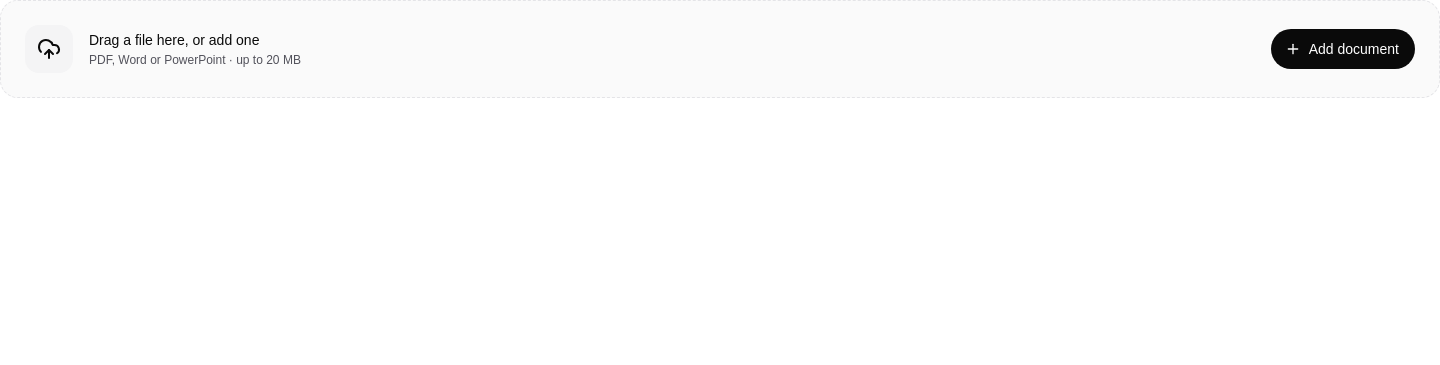
Test: UploadPanel › opens a source menu from the plus button and closes it on Escape
Click the button "Add document" at (1343, 49), box [1271,29,1415,69]
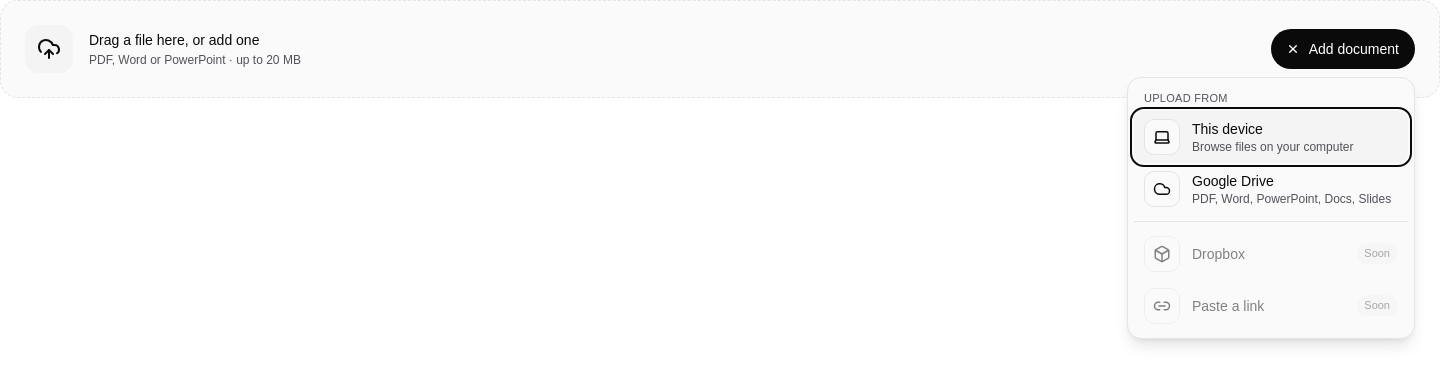
Now the menu is shown, box [1127,77,1415,338]
Press Escape
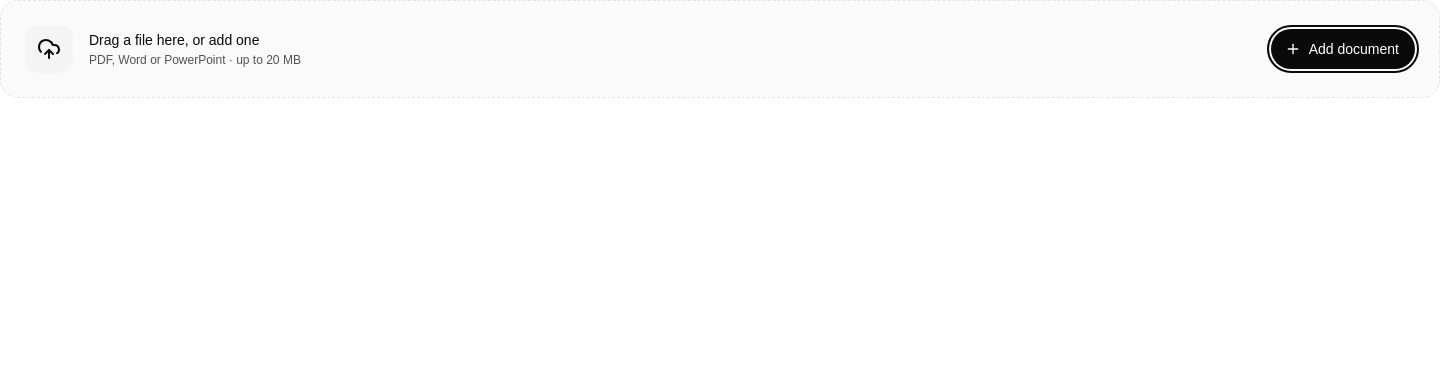
Now the menu is gone
